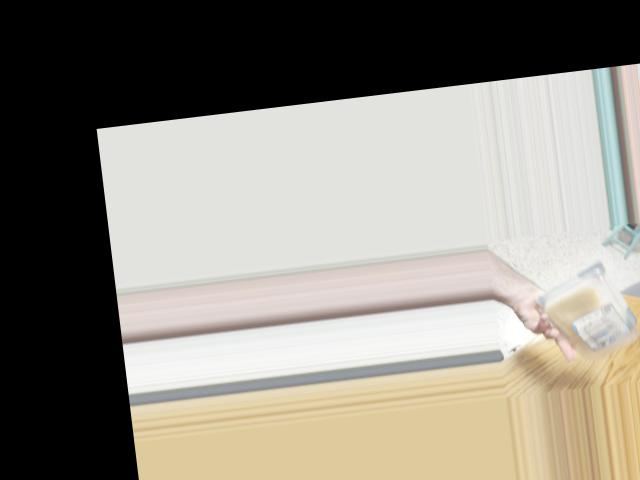cheese: (556, 258, 640, 357)
